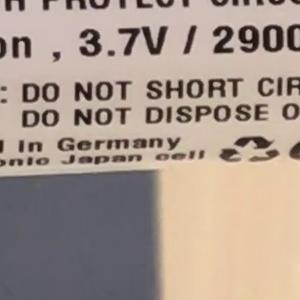keyword: (69, 16, 175, 67)
